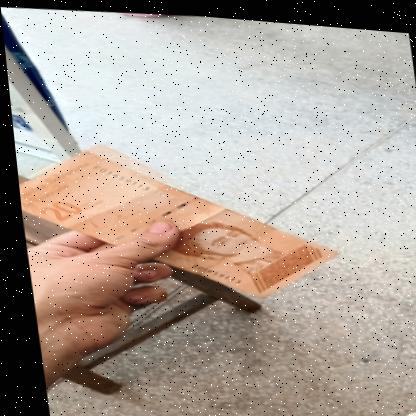vef_front: (11, 135, 342, 307)
